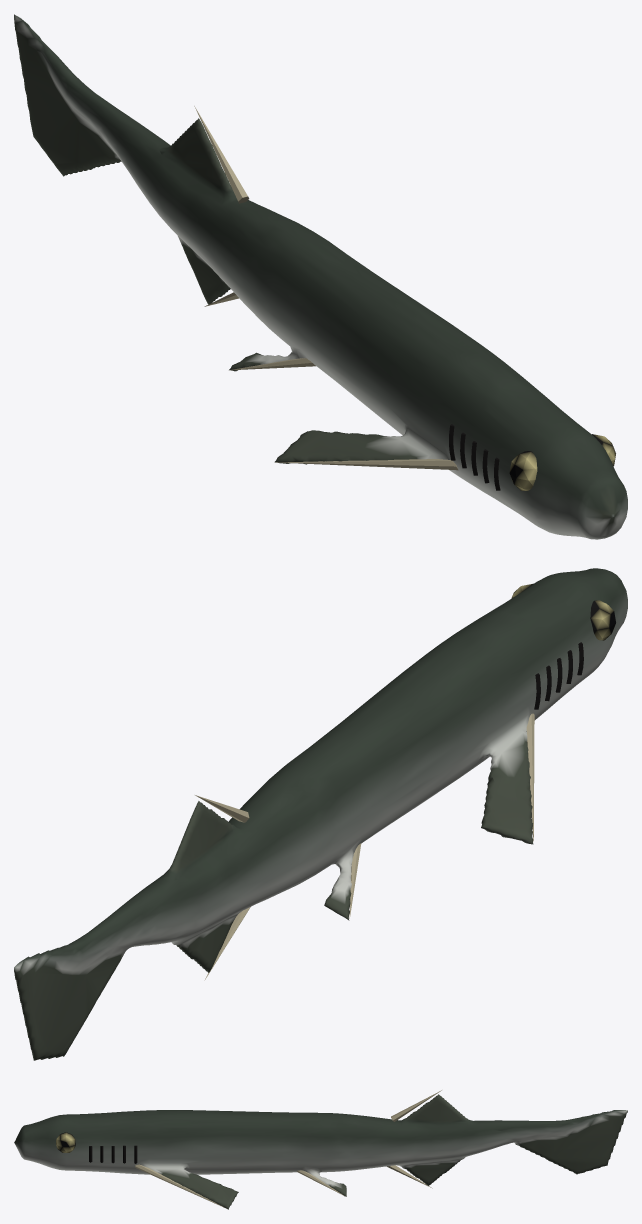
File: Acanthodes.fbx
3 views of the same model, one above another, from view 1: azimuth 30°, elevation 25°; view 2: azimuth 150°, elevation 25°; view 3: azimuth 270°, elevation 25° (orthographic). The views are drawn at different scales.
Parts seen in each view (by area): view 1: Acanthodes; view 2: Acanthodes; view 3: Acanthodes.
Boxes of the visible parts, x1,y1,x2,y2 form: Acanthodes: (14, 14, 627, 539); Acanthodes: (14, 568, 627, 1060); Acanthodes: (14, 1090, 627, 1209).
Size of the model in its own units: 0.3 by 0.215 by 1.2.
